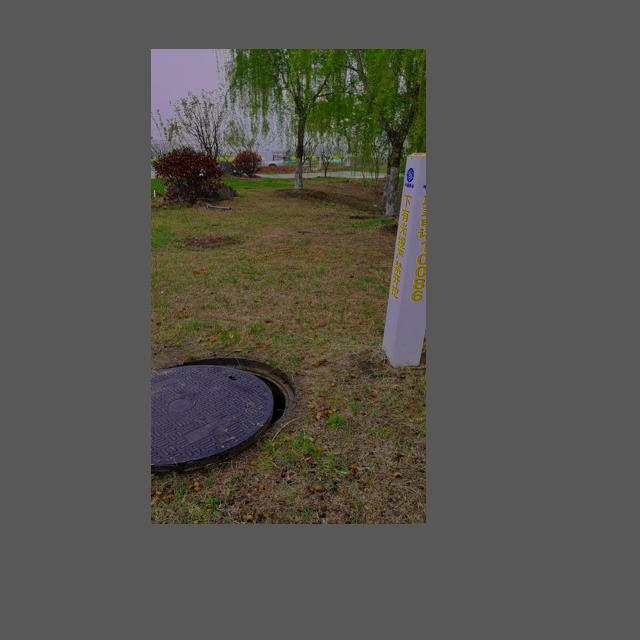uncovered: (153, 356, 292, 472)
